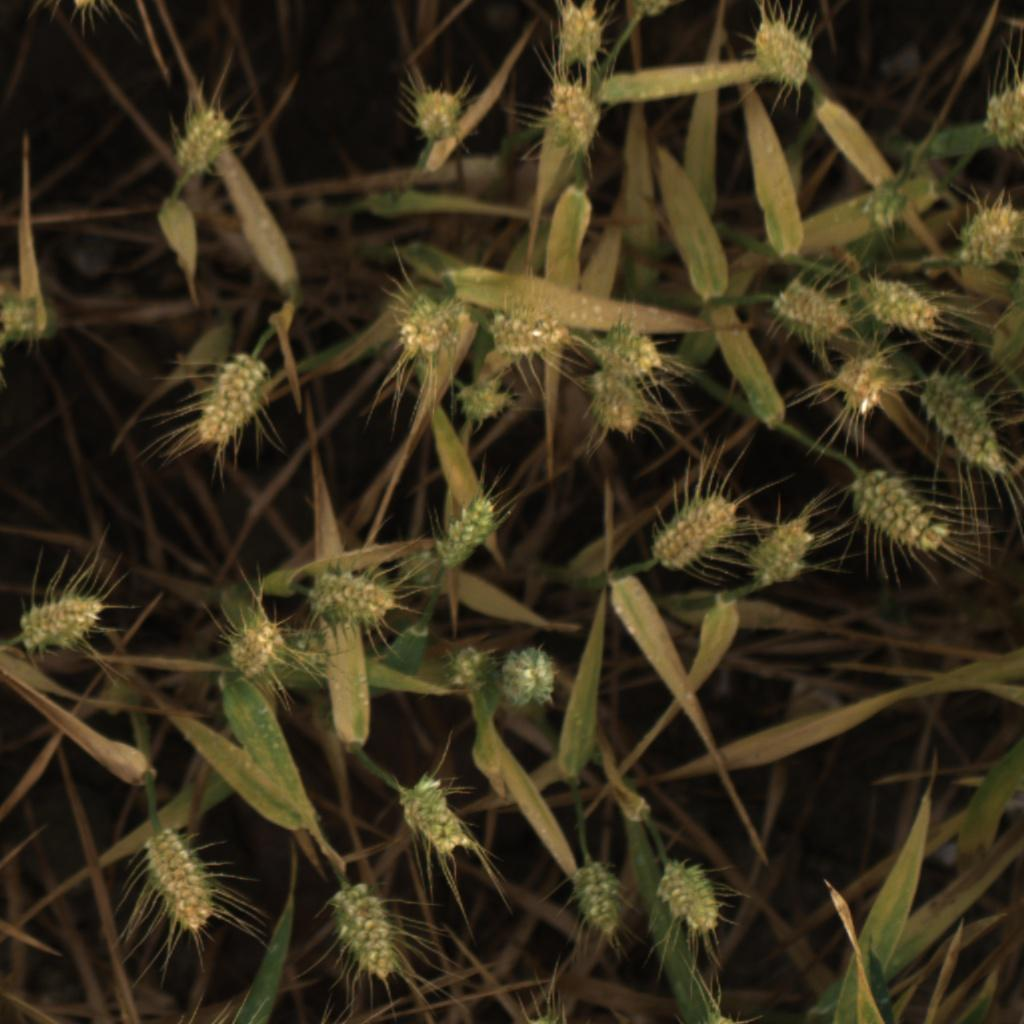0-0: (918, 371, 1013, 480), (846, 464, 950, 561), (134, 825, 223, 937), (192, 346, 279, 455), (324, 877, 405, 991), (648, 489, 742, 583), (422, 494, 510, 579), (307, 560, 407, 633), (747, 6, 820, 102), (652, 855, 728, 944), (166, 97, 242, 184), (482, 296, 574, 367), (539, 72, 613, 159), (743, 512, 821, 593), (15, 590, 108, 655), (560, 853, 631, 937), (263, 616, 348, 686), (221, 611, 294, 691), (387, 293, 468, 364), (399, 777, 469, 858), (769, 275, 855, 339), (865, 272, 952, 334), (827, 349, 901, 420), (497, 642, 572, 712), (590, 316, 667, 384), (546, 0, 616, 74), (956, 199, 1024, 275), (403, 82, 474, 150), (589, 375, 650, 449), (859, 162, 918, 236), (975, 60, 1024, 149), (447, 371, 514, 431), (0, 289, 69, 341), (437, 636, 498, 694), (631, 0, 699, 25), (520, 1002, 593, 1024), (683, 1008, 752, 1024)
